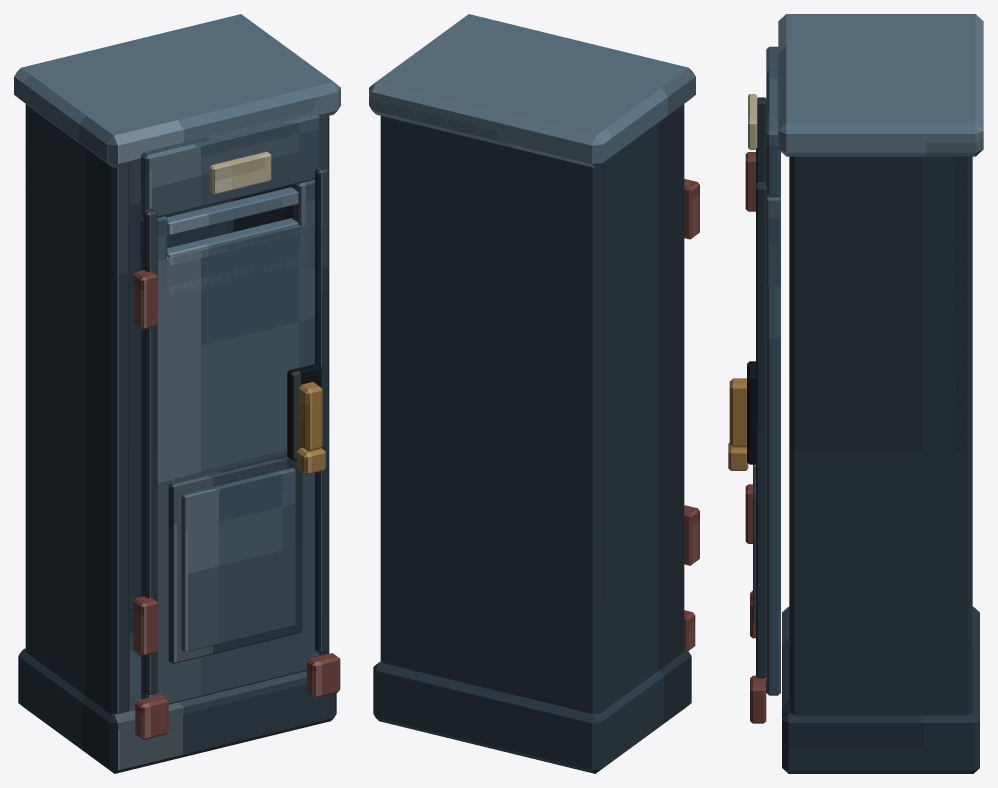
Rendered from hiding_spot.glb.
3 views of the same model, side by side, from view 1: azimuth 30°, elevation 25°; view 2: azimuth 150°, elevation 25°; view 3: azimuth 270°, elevation 25° (orthographic).
Visible parts, largest first — view 1: LockerSide_L, DoorLowerMass, ChunkyTop, LowerPanel, ChunkyBase, DoorTopMass, LockerBack, LowerInset, DoorRail_R, DoorRail_L, SightSlat_3, SightSlat_2 (+11 smaller); view 2: LockerBack, LockerSide_L, ChunkyTop, ChunkyBase, LockerSide_R, BlockHinge_1, BlockHinge_2; view 3: LockerSide_R, ChunkyTop, ChunkyBase, LockerBack, DoorLowerMass, DoorRail_R, DoorTopMass, Handle, SightCrackRightRail, HandlePlate, DoorRail_L, BaseBracket_R (+5 smaller).
Boxes of the visible parts, x1,y1,x2,y2 form: LockerSide_L: (26,105,129,714); DoorLowerMass: (141,223,319,704); ChunkyTop: (14,14,340,168); LowerPanel: (181,468,295,652); ChunkyBase: (18,633,336,773); DoorTopMass: (141,111,319,217); LockerBack: (25,104,233,655); LowerInset: (168,454,302,663); DoorRail_R: (315,166,328,653); DoorRail_L: (143,208,157,695); SightSlat_3: (167,187,298,235); SightSlat_2: (167,218,298,265); LockerBack: (380,116,604,713); LockerSide_L: (582,104,684,714); ChunkyTop: (369,14,695,168); ChunkyBase: (373,648,691,773); LockerSide_R: (380,116,392,665); BlockHinge_1: (684,505,699,565); BlockHinge_2: (684,179,699,239); LockerSide_R: (789,156,972,715); ChunkyTop: (778,14,983,156); ChunkyBase: (782,606,979,773); LockerBack: (955,156,972,715); DoorLowerMass: (766,241,780,695); DoorRail_R: (756,182,766,678); DoorTopMass: (766,46,780,197); Handle: (729,378,746,447); SightCrackRightRail: (767,194,780,286); HandlePlate: (747,361,755,464); DoorRail_L: (756,97,766,184); BaseBracket_R: (750,675,766,723).
Bounding box in the file's own units: 0.75 × 1.96 × 0.6965.
Materials: 4 (4 with a texture image).
